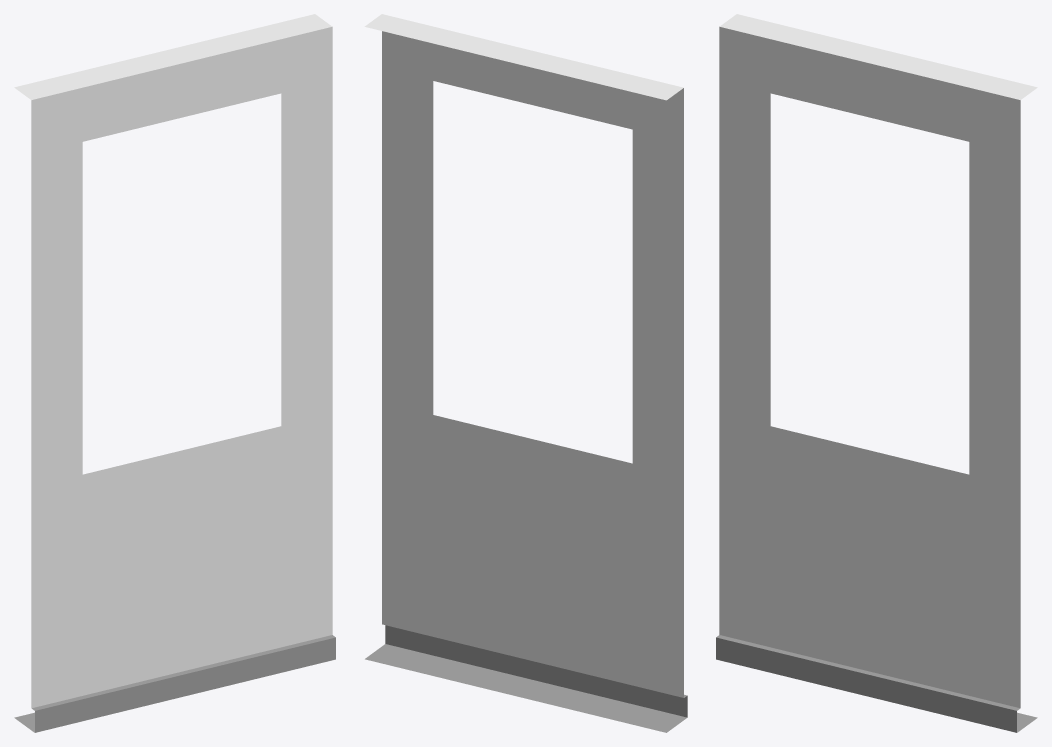
The model's file is Int-V2WindowframeSmallWhite.fbx.
The picture shows the model from 3 angles, left to right: view 1: azimuth 30°, elevation 25°; view 2: azimuth 150°, elevation 25°; view 3: azimuth 330°, elevation 25°; orthographic projection.
Parts seen in each view (by area): view 1: Int-V2WindowframeSmallWhite; view 2: Int-V2WindowframeSmallWhite; view 3: Int-V2WindowframeSmallWhite.
Part boxes in pixels (x1=…): Int-V2WindowframeSmallWhite: x1=14, y1=14, x2=335, y2=732; Int-V2WindowframeSmallWhite: x1=364, y1=14, x2=687, y2=732; Int-V2WindowframeSmallWhite: x1=716, y1=14, x2=1037, y2=732.
Bounding box in the file's own units: 100 × 200 × 12.
